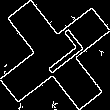L_SW: (26, 27, 84, 83)
